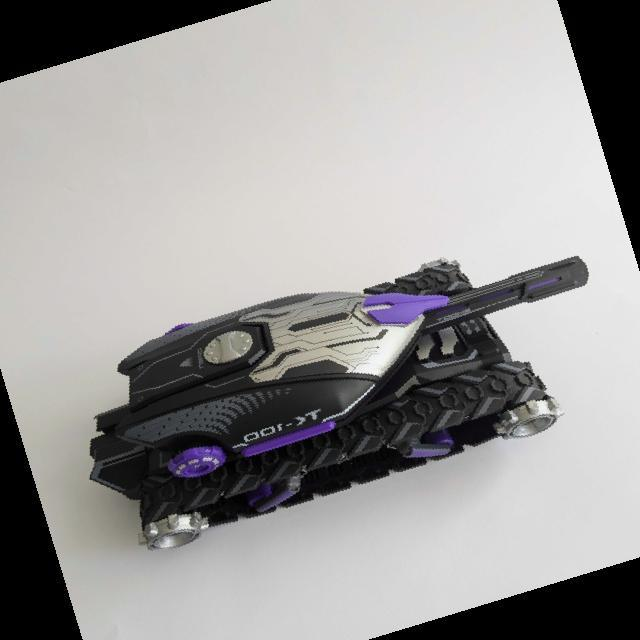barrel: (425, 256, 589, 331)
